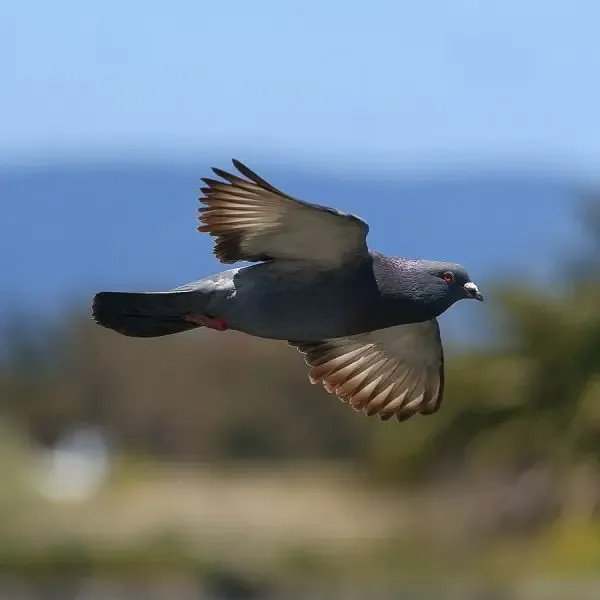Flying Rat: (74, 170, 499, 414)
